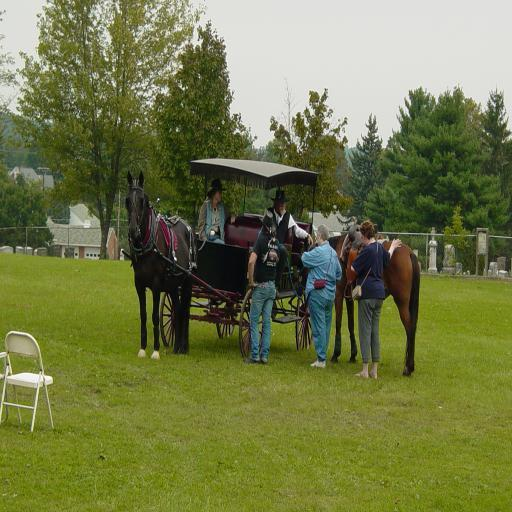horse: (318, 226, 420, 378), (124, 173, 198, 359)
